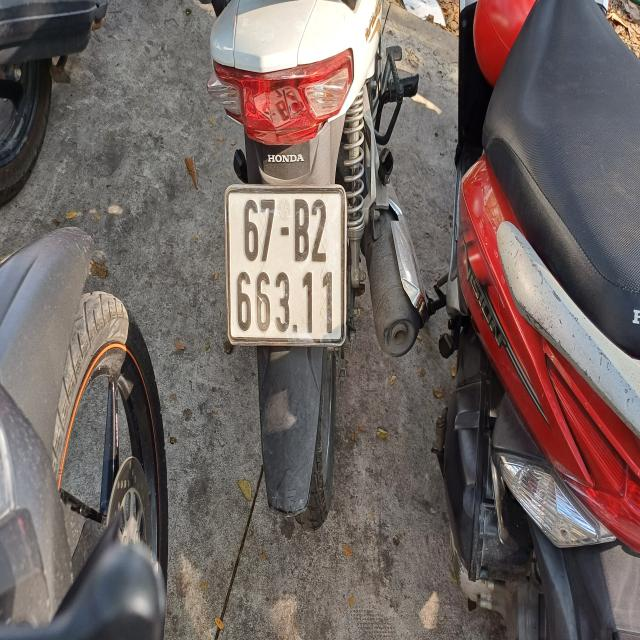1: (322, 267, 337, 336), (302, 269, 316, 333)
2: (311, 200, 327, 262)
3: (272, 270, 290, 334)
6: (255, 270, 271, 334), (242, 200, 258, 262), (236, 270, 252, 332)
7: (260, 198, 276, 264)
B: (292, 196, 310, 265)
